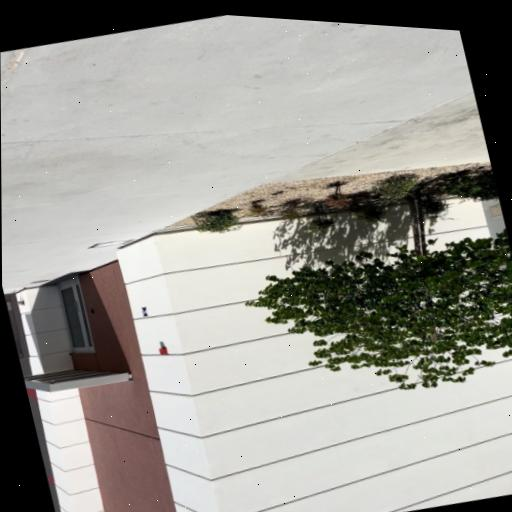target2: (141, 306, 149, 317)
